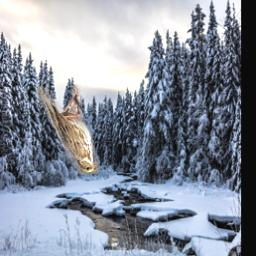Sparrow: (37, 85, 98, 175)
